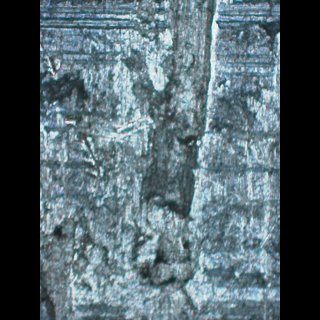d: (116, 0, 227, 294)
